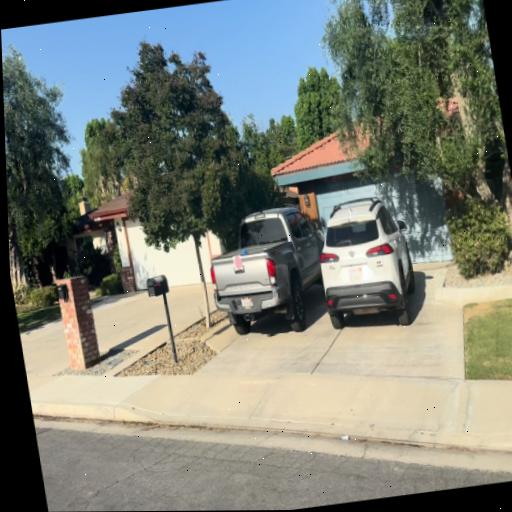bullseye: (234, 255, 243, 270)
